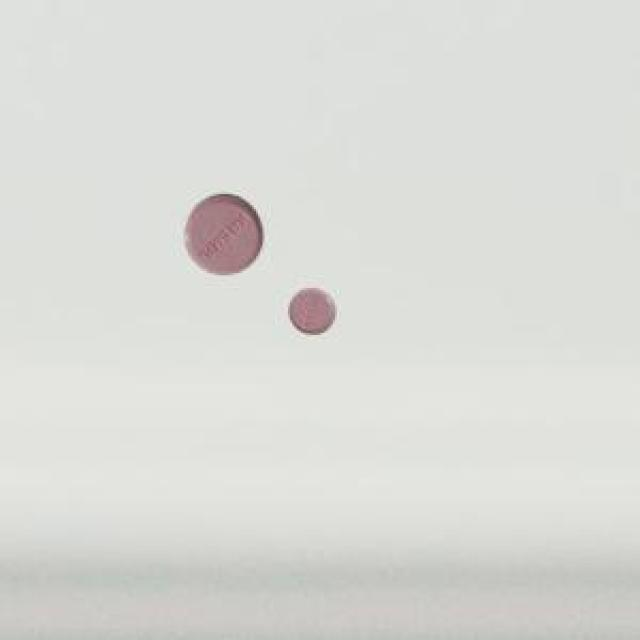Kremil_S: (176, 185, 267, 284), (286, 279, 342, 342)
